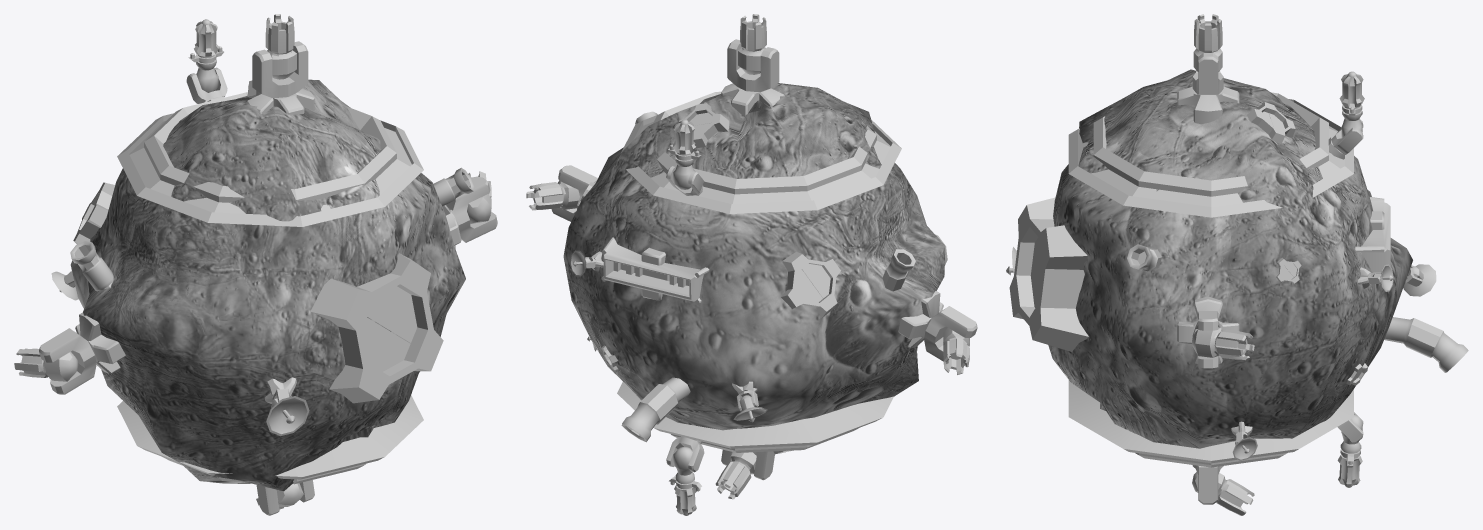
File: Basa_1.FBX
3 renders of one model, left to right at view 1: azimuth 30°, elevation 25°; view 2: azimuth 150°, elevation 25°; view 3: azimuth 270°, elevation 25°, orthographic. The views are drawn at different scales.
Parts seen in each view (by area): view 1: Asteroid, Rels001, Luk, Rels002, Dviglo00302, Dviglo00102, Luk_dver_0, Luk_dver_1, Dviglo00103, Eldostrel00103, Dviglo00202, Dviglo00303 (+9 smaller); view 2: Asteroid, Rels001, Rels002, Angar, Cylinder001, Dviglo00102, Luk002, Dviglo00302, Dviglo00103, Eldostrel00103, Eldostrel105, Dviglo00203 (+11 smaller); view 3: Asteroid, Rels001, Luk, Rels002, Cylinder001, Angar, Dviglo00203, Dviglo00101, Dviglo00103, Eldostrel00103, Eldostrel105, Dviglo00403 (+9 smaller).
Part boxes in pixels (x1,y1,x2,y2): Asteroid: (70, 79, 465, 491); Rels001: (117, 92, 423, 226); Luk: (310, 253, 443, 403); Rels002: (117, 395, 423, 484); Dviglo00302: (39, 328, 96, 394); Dviglo00102: (252, 41, 308, 97); Luk_dver_0: (367, 286, 417, 342); Luk_dver_1: (362, 318, 410, 371); Dviglo00103: (265, 14, 296, 79); Eldostrel00103: (188, 19, 223, 92); Dviglo00202: (446, 177, 497, 242); Dviglo00303: (14, 348, 78, 381); Asteroid: (563, 83, 945, 430); Rels001: (621, 91, 901, 213); Rels002: (617, 382, 893, 452); Angar: (601, 237, 709, 304); Cylinder001: (621, 377, 690, 442); Dviglo00102: (727, 39, 779, 91); Luk002: (781, 251, 840, 317); Dviglo00302: (924, 306, 977, 361); Dviglo00103: (738, 14, 766, 74); Eldostrel00103: (668, 119, 701, 189); Eldostrel105: (669, 446, 701, 515); Dviglo00203: (526, 181, 579, 210); Asteroid: (1048, 69, 1412, 448); Rels001: (1068, 92, 1353, 217); Luk: (1009, 197, 1088, 351); Rels002: (1068, 380, 1353, 467); Cylinder001: (1384, 317, 1468, 372); Angar: (1355, 197, 1390, 272); Dviglo00203: (1192, 327, 1254, 360); Dviglo00101: (1177, 86, 1239, 124); Dviglo00103: (1193, 14, 1222, 72); Eldostrel00103: (1339, 71, 1364, 137); Eldostrel105: (1337, 414, 1362, 487); Dviglo00403: (1192, 472, 1254, 515).
Bounding box in the file's own units: 1075 × 1094 × 931.
